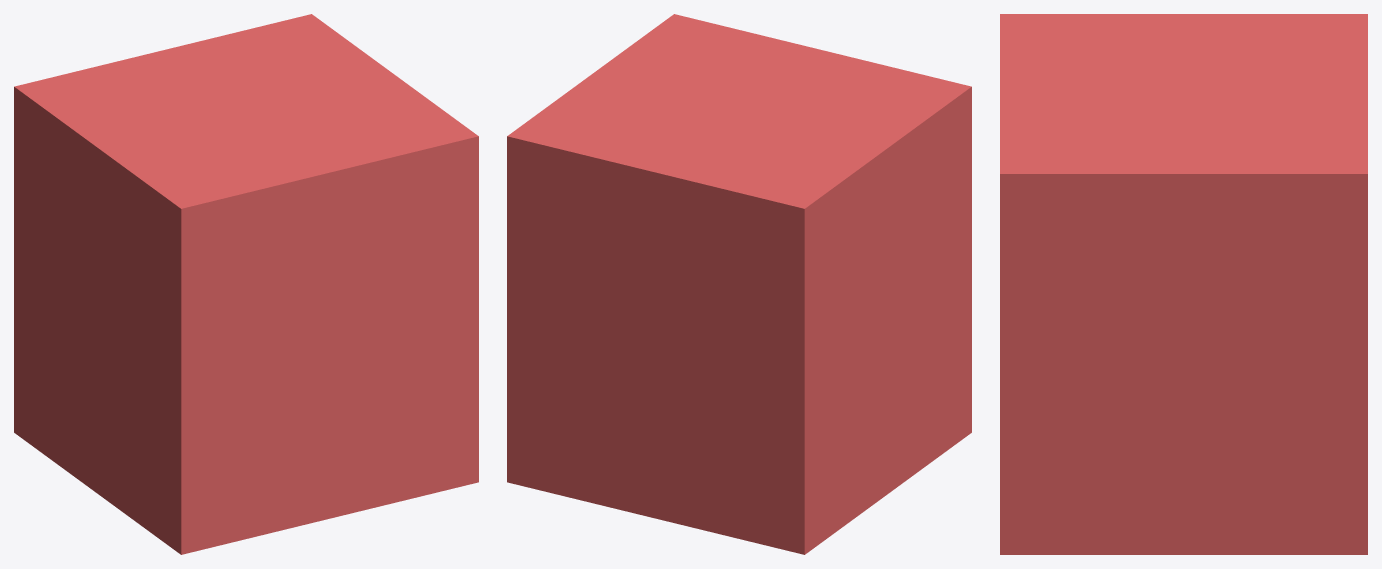
Rendered from NXB-63_C32_4P.glb.
The picture shows the model from 3 angles, left to right: view 1: azimuth 30°, elevation 25°; view 2: azimuth 150°, elevation 25°; view 3: azimuth 270°, elevation 25°; orthographic projection. The views are drawn at different scales.
Parts seen in each view (by area): view 1: NXB-63_C32_4P; view 2: NXB-63_C32_4P; view 3: NXB-63_C32_4P.
Part boxes in pixels (<box>): NXB-63_C32_4P: <box>14,14,478,554</box>; NXB-63_C32_4P: <box>507,14,971,554</box>; NXB-63_C32_4P: <box>1000,14,1367,554</box>.
Size of the model in its own units: 72 by 80 by 70.
